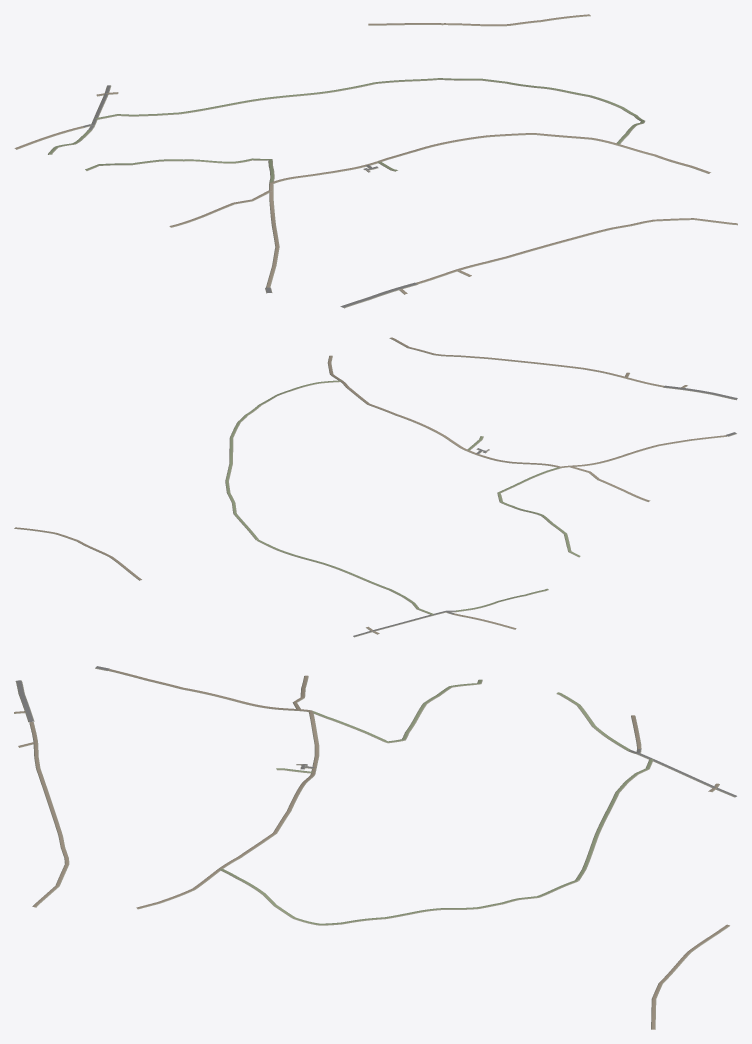
3 renders of one model, top to bottom at view 1: azimuth 30°, elevation 25°; view 2: azimuth 150°, elevation 25°; view 3: azimuth 270°, elevation 25°, orthographic. The views are drawn at different scales.
Parts seen in each view (by area): view 1: roads; view 2: roads; view 3: roads.
Part boxes in pixels (x1,y1,x2,y2): roads: (14,14,737,308); roads: (14,337,737,637); roads: (14,666,736,1029).
Size of the model in its own units: 801 by 97.19 by 816.
